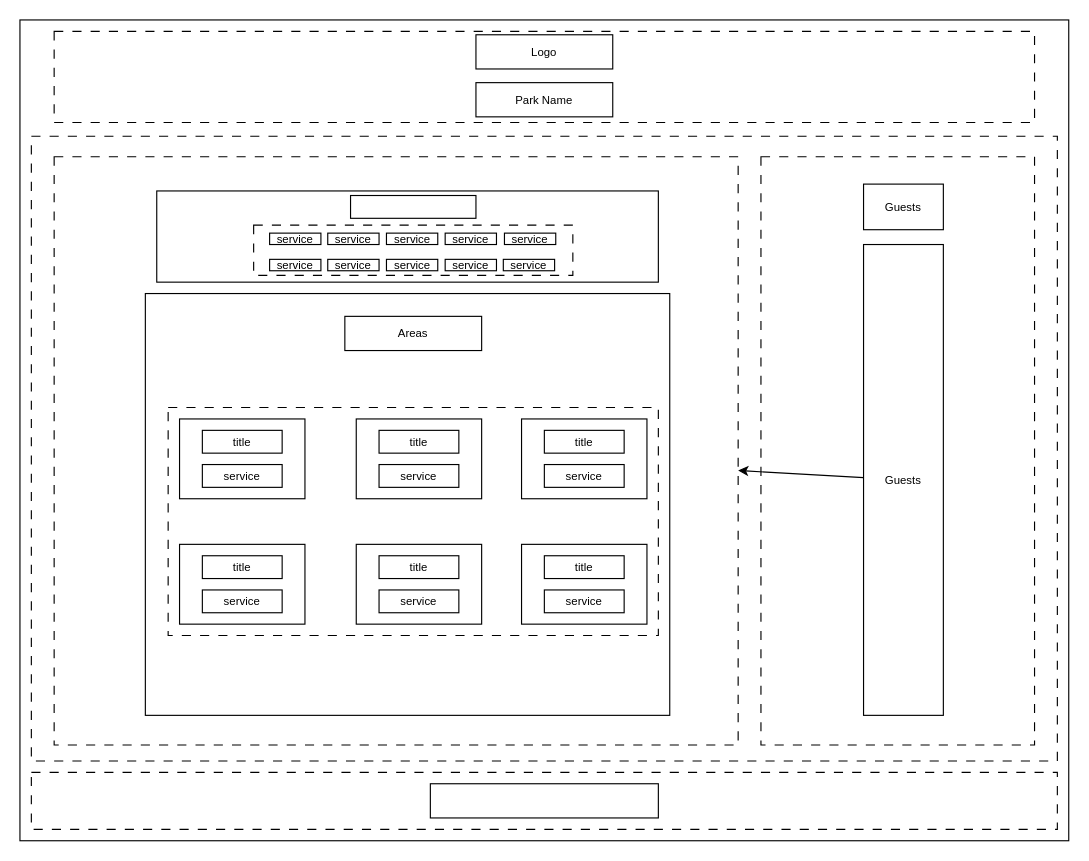
This 1089x861 diagram has some shape labels left out. Here are the shapes that lost their labels. From the top down, the centre of each, then its label:
pixel 412 206: Services
pixel 543 800: Phone, Email, etc
